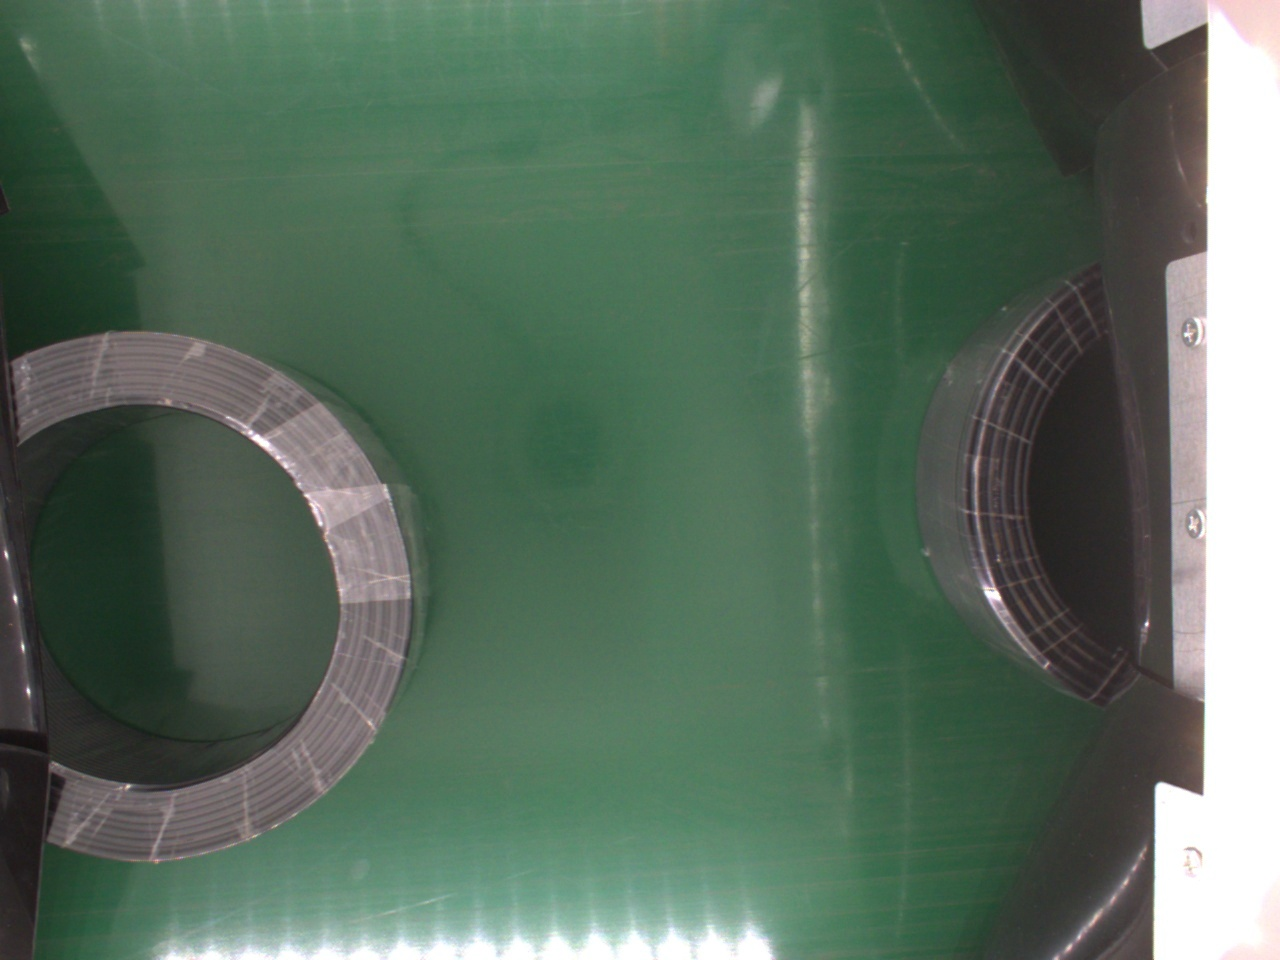black: (19, 333, 421, 864), (912, 263, 1144, 714)
